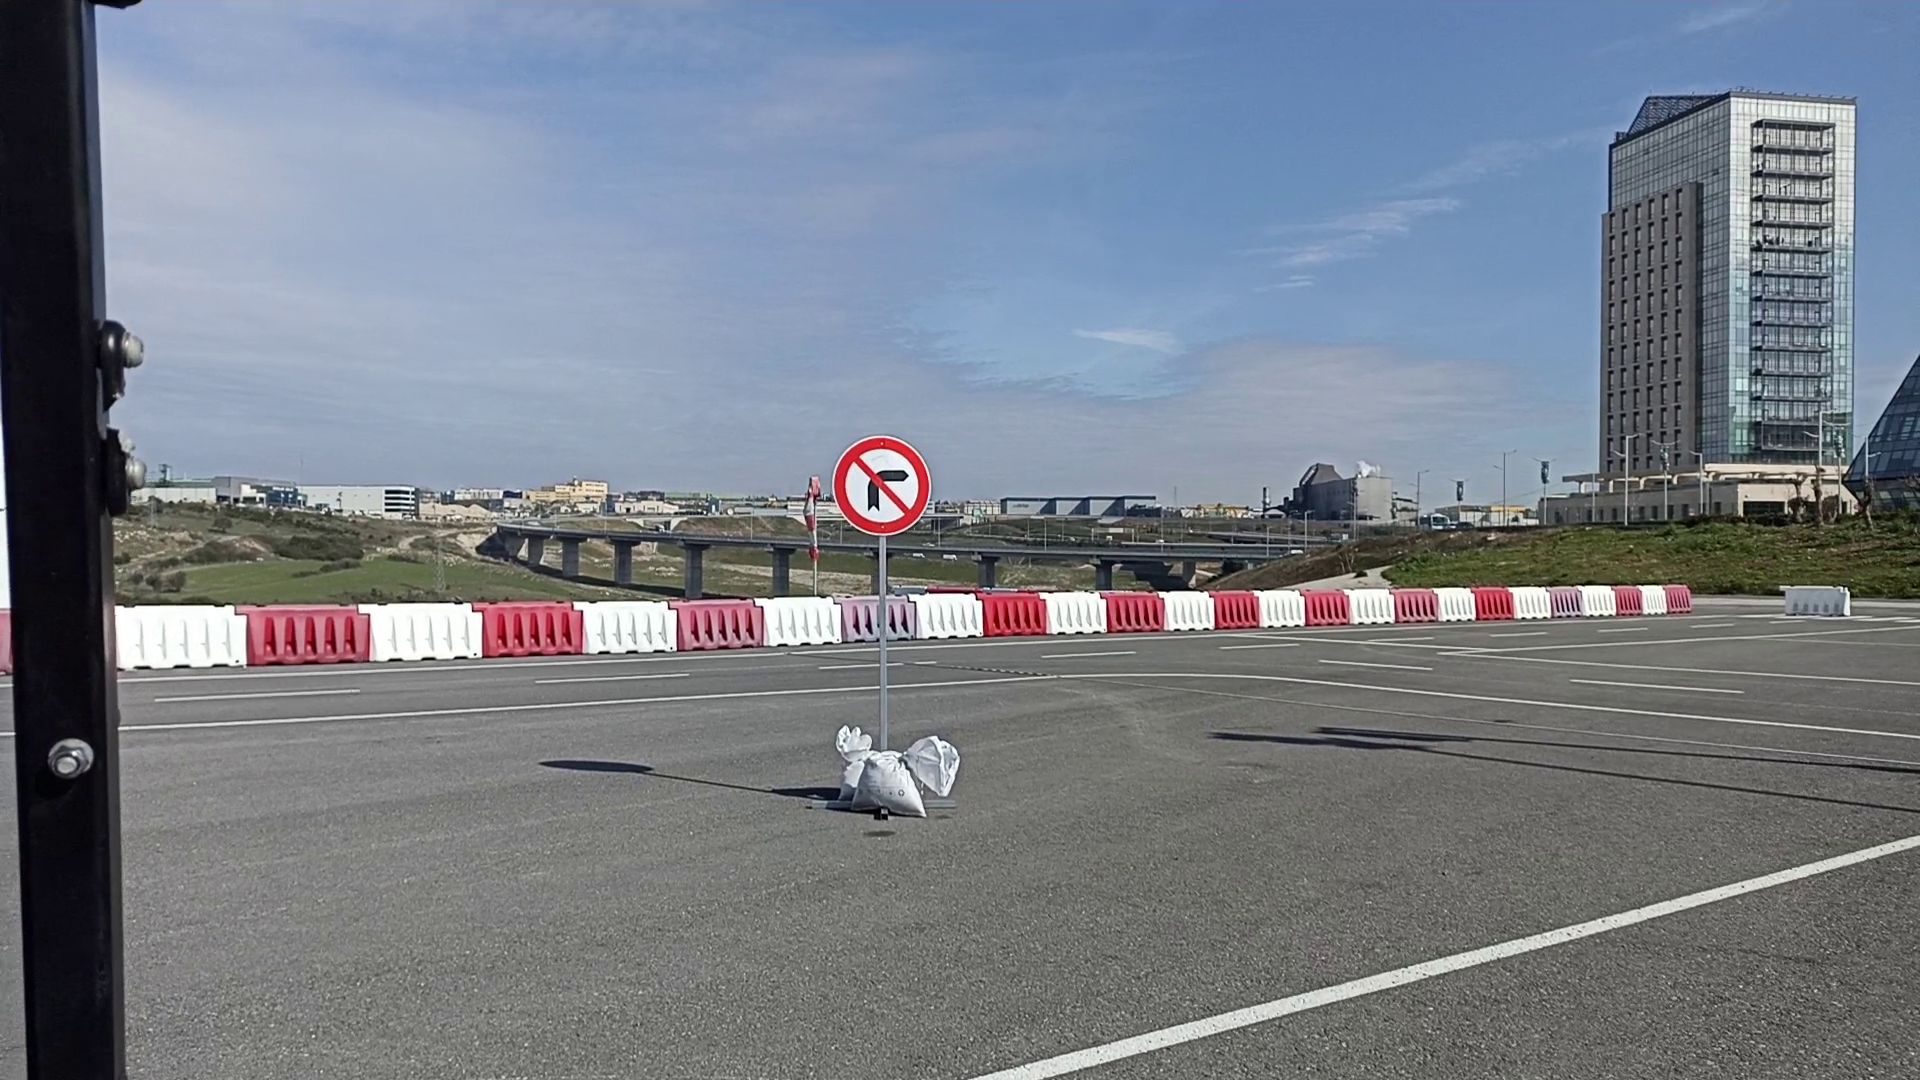noleftturn: (831, 433, 934, 538)
